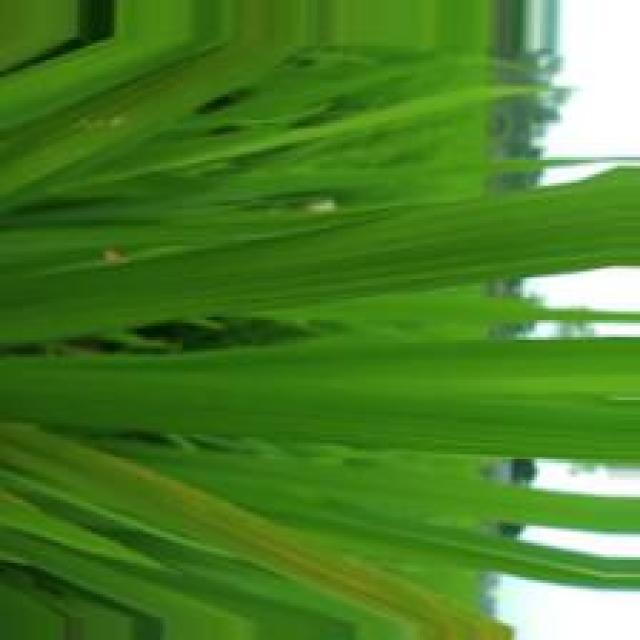HealthyLeaf: (3, 166, 638, 342), (82, 340, 638, 459)
